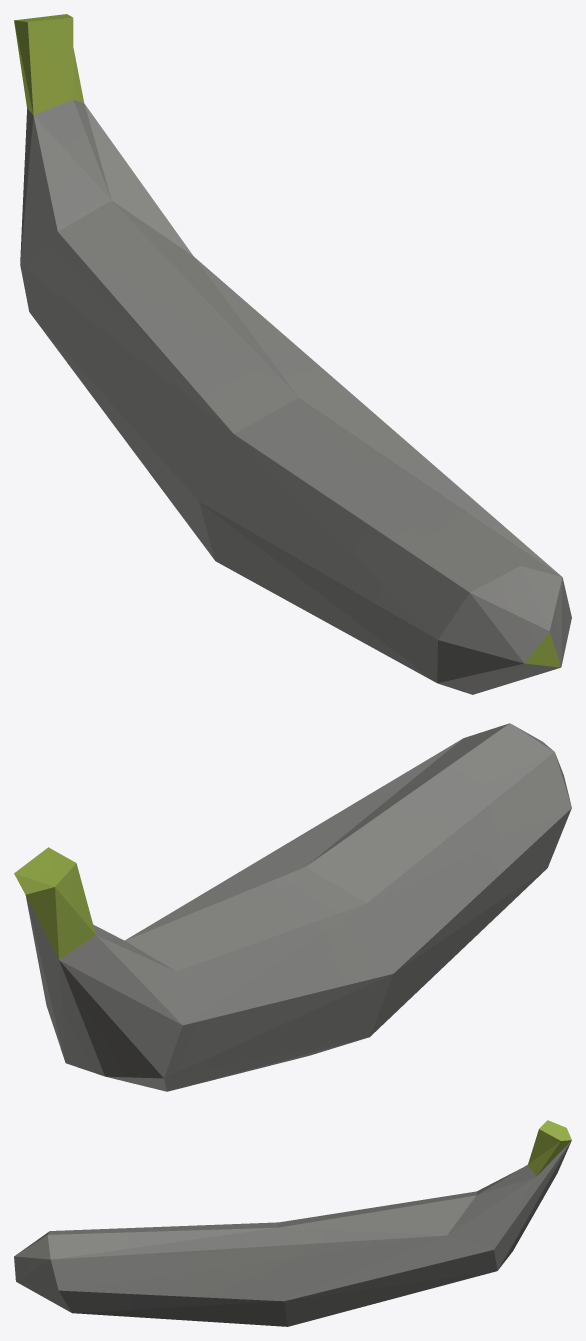
The model's file is Banana_01.fbx.
3 views of the same model, one above another, from view 1: azimuth 30°, elevation 25°; view 2: azimuth 150°, elevation 25°; view 3: azimuth 270°, elevation 25° (orthographic). The views are drawn at different scales.
Parts seen in each view (by area): view 1: Banana_01; view 2: Banana_01; view 3: Banana_01.
Boxes of the visible parts, x1=… form: Banana_01: x1=14, y1=14, x2=571, y2=694; Banana_01: x1=14, y1=723, x2=571, y2=1091; Banana_01: x1=14, y1=1120, x2=571, y2=1326.
Bounding box in the file's own units: 0.0739 × 0.1519 × 0.3811.
